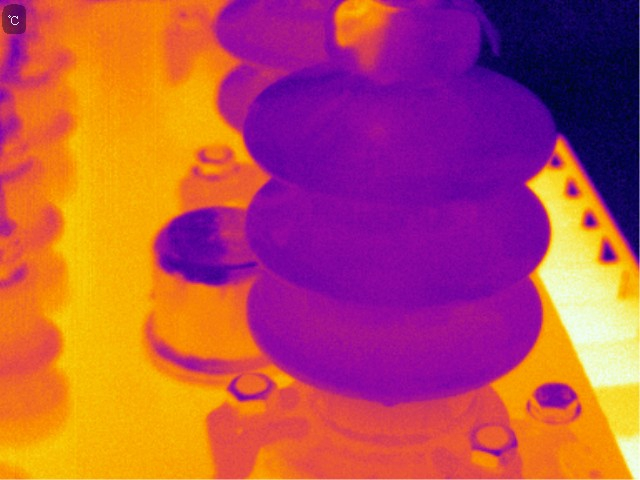Oil: (331, 1, 401, 80), (362, 113, 399, 151)
